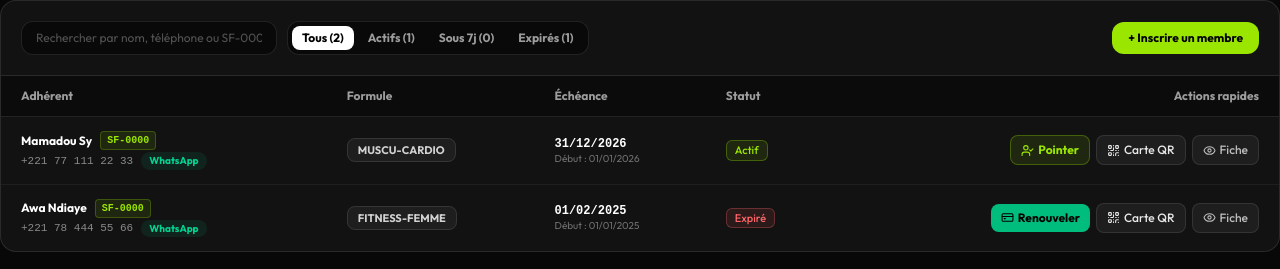
Test: GymMembersTab › filtre les membres via la barre de recherche
This screenshot has width=1280, height=269.
Type "Mamadou" into the field with placeholder "Rechercher par nom, téléphone ou SF-0001...". click: [149, 38]
box: top-left (21, 21), bottom-right (277, 55)
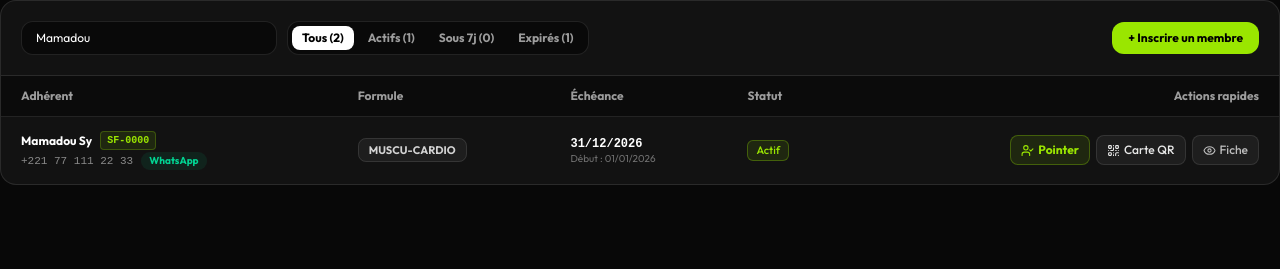
Check: the text "Mamadou Sy" is shown, box top-left (21, 133), bottom-right (92, 149)
Check: the text "Awa Ndiaye" is gone
